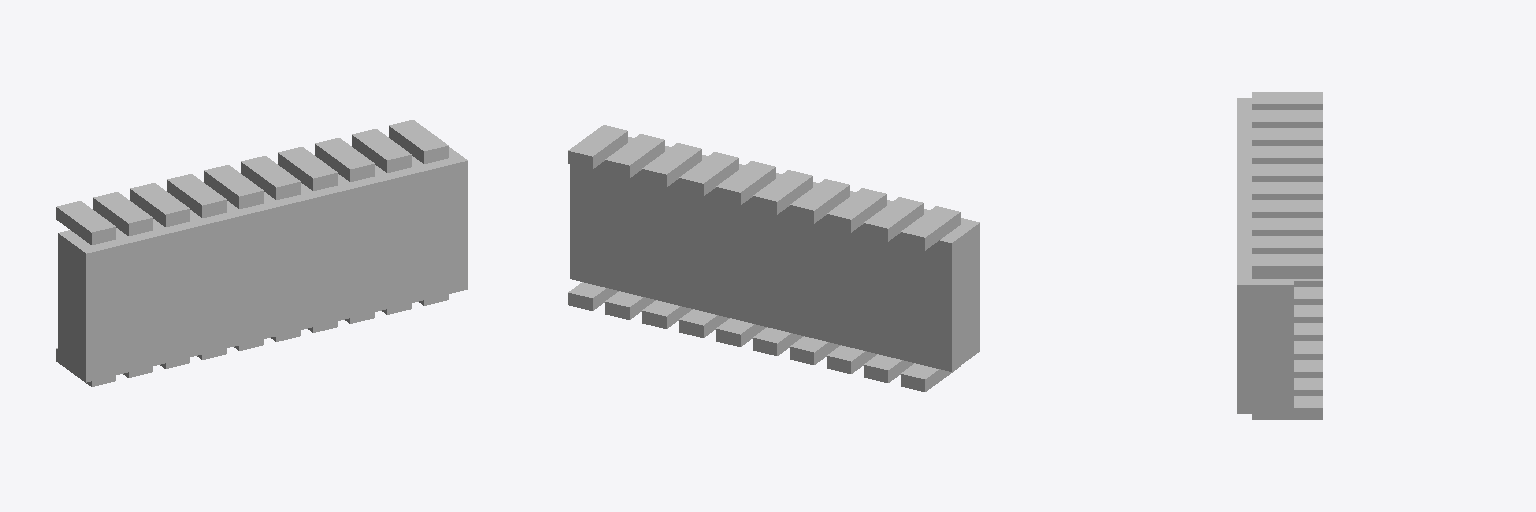
3 views of the same model, side by side, from view 1: azimuth 30°, elevation 25°; view 2: azimuth 150°, elevation 25°; view 3: azimuth 270°, elevation 25° (orthographic).
Visible parts, largest first — view 1: Krychle, Krychle011, Krychle016, Krychle014, Krychle013, Krychle017, Krychle015, Krychle012, Krychle020, Krychle018, Krychle019; view 2: Krychle, Krychle011, Krychle014, Krychle016, Krychle013, Krychle017, Krychle015, Krychle012, Krychle018, Krychle020, Krychle019, Krychle001 (+9 smaller); view 3: Krychle, Krychle020, Krychle012, Krychle014, Krychle011, Krychle013, Krychle017, Krychle019, Krychle018, Krychle016, Krychle015, Krychle010 (+1 smaller).
Part boxes in pixels (bbox=[...]): Krychle: bbox=[58, 147, 467, 382]; Krychle011: bbox=[56, 201, 115, 244]; Krychle016: bbox=[241, 156, 300, 199]; Krychle014: bbox=[167, 174, 226, 217]; Krychle013: bbox=[130, 183, 189, 226]; Krychle017: bbox=[278, 147, 337, 190]; Krychle015: bbox=[204, 165, 263, 208]; Krychle012: bbox=[93, 192, 152, 235]; Krychle020: bbox=[389, 120, 448, 163]; Krychle018: bbox=[315, 138, 374, 181]; Krychle019: bbox=[352, 129, 411, 172]; Krychle: bbox=[570, 137, 979, 371]; Krychle011: bbox=[901, 206, 960, 250]; Krychle014: bbox=[790, 179, 849, 223]; Krychle016: bbox=[716, 161, 775, 205]; Krychle013: bbox=[827, 188, 886, 232]; Krychle017: bbox=[679, 152, 738, 196]; Krychle015: bbox=[753, 170, 812, 214]; Krychle012: bbox=[864, 197, 923, 241]; Krychle018: bbox=[642, 143, 701, 187]; Krychle020: bbox=[568, 125, 627, 169]; Krychle019: bbox=[605, 134, 664, 178]; Krychle001: bbox=[901, 363, 960, 391]; Krychle: bbox=[1237, 98, 1293, 413]; Krychle020: bbox=[1252, 254, 1322, 278]; Krychle012: bbox=[1252, 110, 1322, 127]; Krychle014: bbox=[1252, 146, 1322, 163]; Krychle011: bbox=[1252, 92, 1322, 109]; Krychle013: bbox=[1252, 128, 1322, 145]; Krychle017: bbox=[1252, 200, 1322, 217]; Krychle019: bbox=[1252, 236, 1322, 253]; Krychle018: bbox=[1252, 218, 1322, 235]; Krychle016: bbox=[1252, 182, 1322, 199]; Krychle015: bbox=[1252, 164, 1322, 181]; Krychle010: bbox=[1252, 396, 1322, 419].
Size of the model in its own units: 31 by 12 by 6.